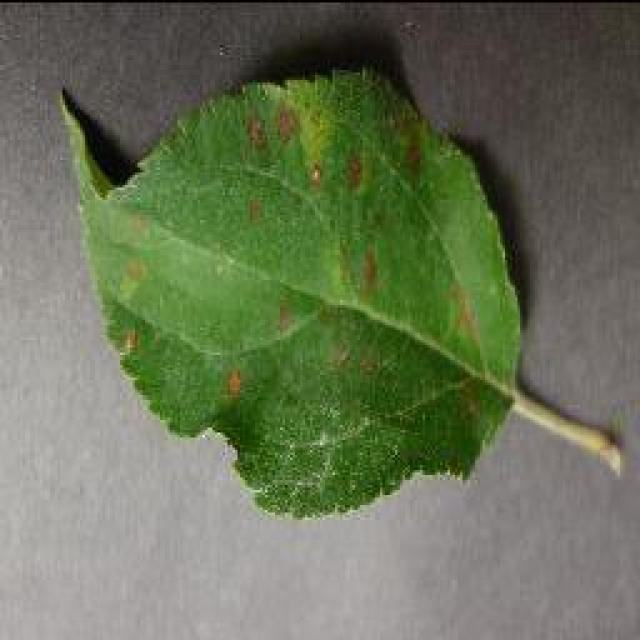Apple___Cedar_apple_rust: (54, 60, 529, 532)
